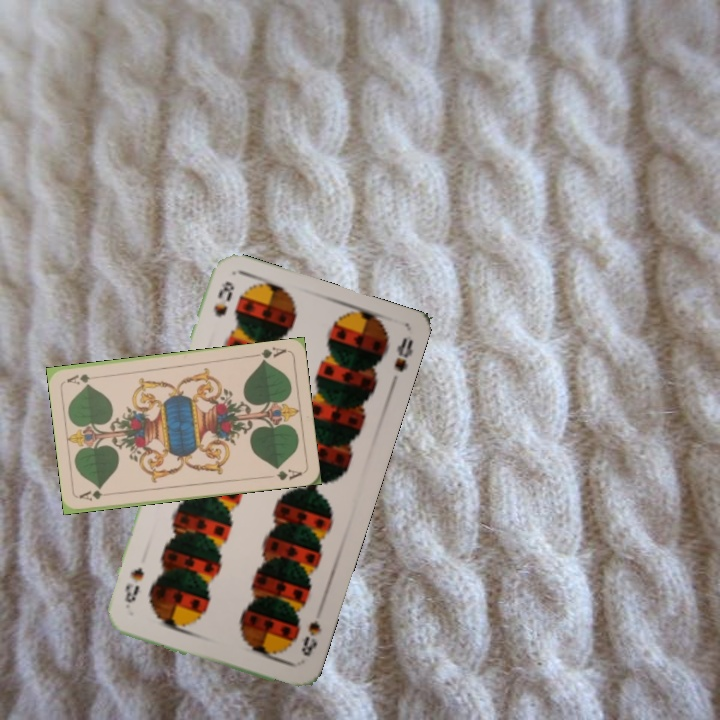GA: (249, 343, 289, 365), (76, 486, 117, 504)
S8: (209, 277, 237, 320), (297, 616, 324, 659)
